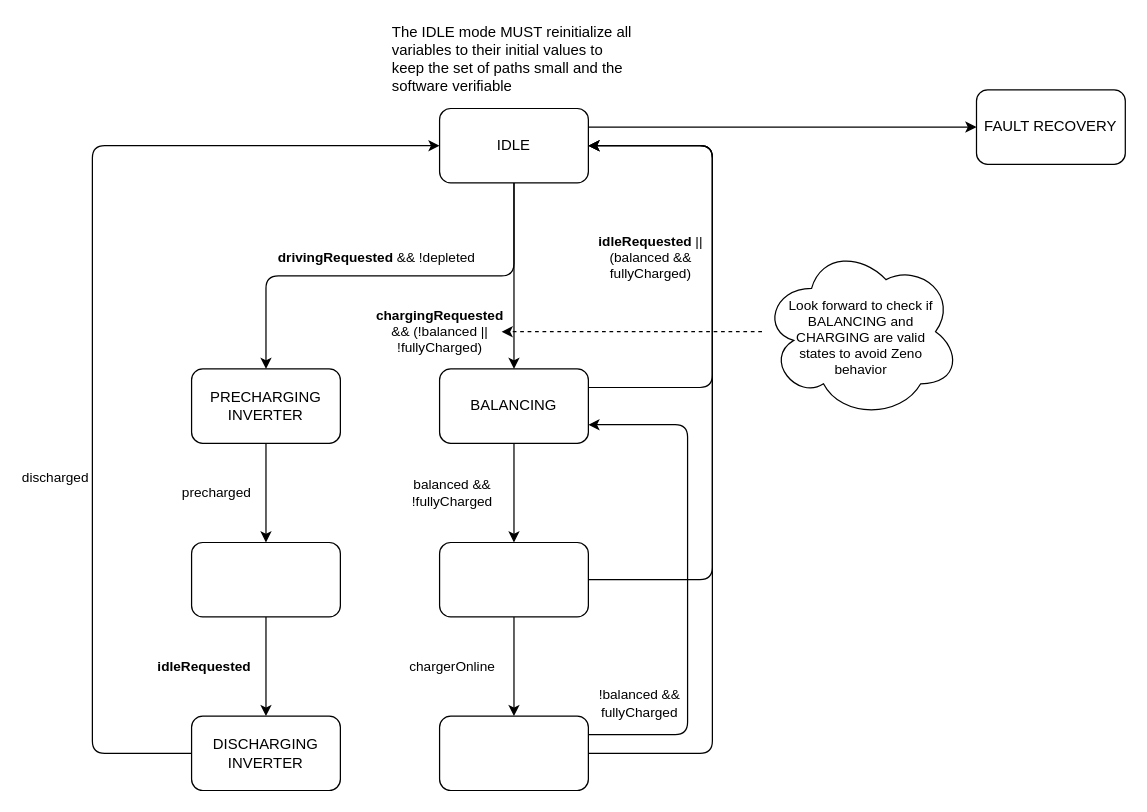
This 1147x812 diagram has some shape labels left out. Here are the shapes that lost their labels. From the top down, the centre of each, then its label:
At point (265, 579): "DRIVING".
At point (513, 579): "AWAITING CHARGER".
At point (513, 752): "CHARGING".
